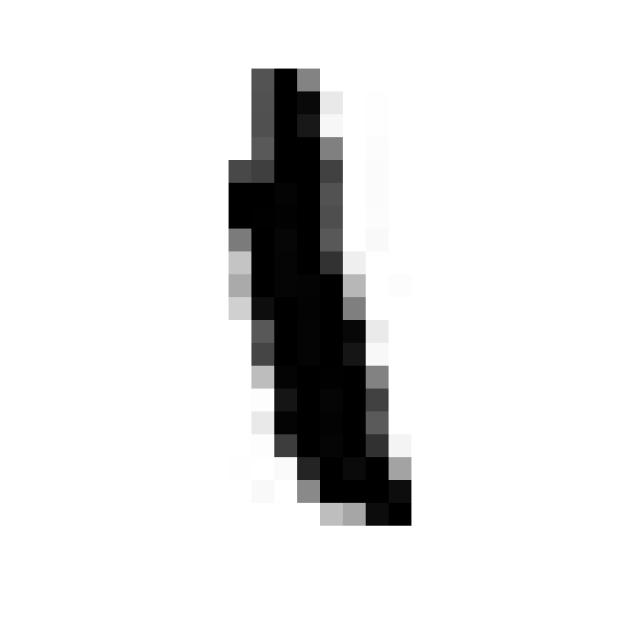1 -one-: (197, 57, 430, 546)
